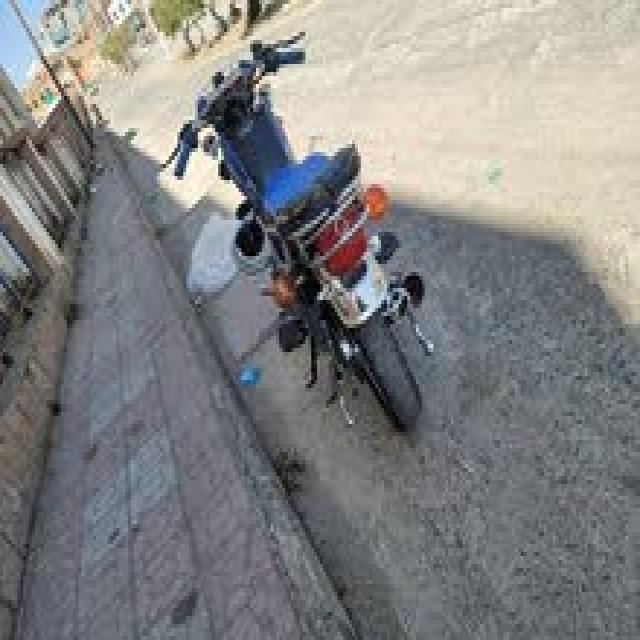motorcycle: (178, 40, 472, 433)
